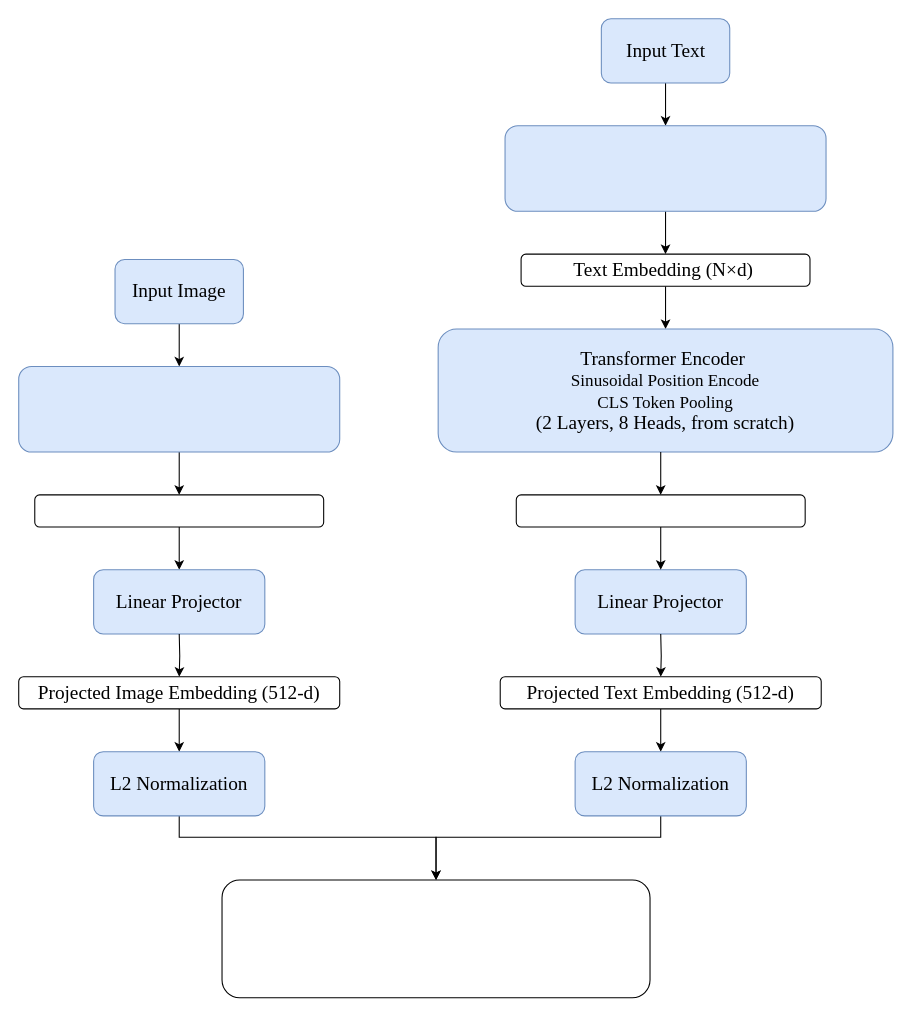
This 912x1017 diagram has some shape labels left out. Here are the shapes that lost their labels. From the top down, the centre of each, then its label:
At [665,168]: "Token Embedding Custom Vocabulary (8912 Tokens)".
At [179,408]: "ResNet-18 (ImageNet Pretrained, Backbone Frozen)".
At [179,510]: "Image Representation (512-d)".
At [660,510]: "CLS Representation (512-d)".
At [435,938]: "Loss: Symmetric InfoNCE (CrossEntropy on both I→T and T→I directions)".
